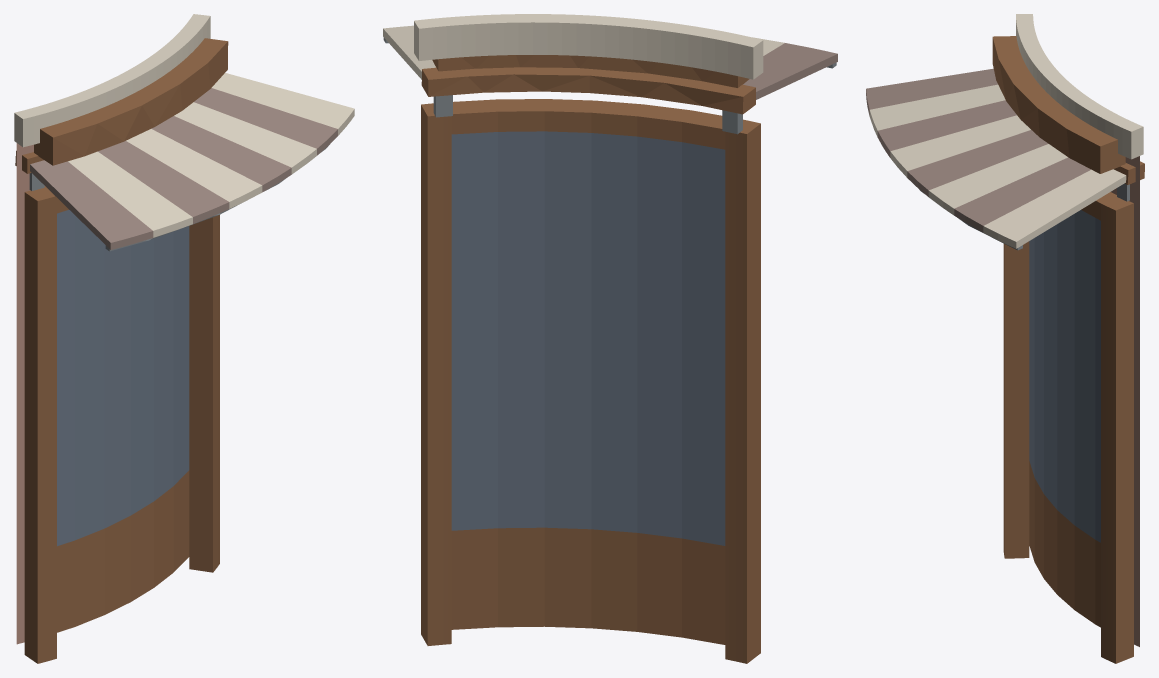
File: ArcShopfront_R2_A45.glb
3 views of the same model, side by side, from view 1: azimuth 30°, elevation 25°; view 2: azimuth 150°, elevation 25°; view 3: azimuth 270°, elevation 25° (orthographic). The views are drawn at different scales.
Visible parts, largest first — view 1: PBK_Arc_PBK_glass.002, PBK_Continuous_Frame_Brick_Shopfront.003, PBK_Arc_PBK_glass.011_Frame_Base20.001, PBK_Arc_PBK_signboard.006, PBK_floor_band.048, PBK_Brick_ArcShopfront_R2_A45_Exterior_Surface.001, PBK_Arc_PBK_awning_stripe.006, PBK_Arc_PBK_awning_stripe.007, PBK_Arc_PBK_awning_stripe.011, PBK_Arc_PBK_awning_stripe.012, PBK_Arc_PBK_awning_stripe.013, PBK_Arc_PBK_awning_stripe.014 (+2 smaller); view 2: PBK_Arc_PBK_glass.002, PBK_Continuous_Frame_Brick_Shopfront.003, PBK_Arc_PBK_glass.011_Frame_Base20.001, PBK_floor_band.048, PBK_Arc_PBK_awning_wall_mount.001, PBK_Arc_PBK_signboard.006, PBK_Arc_PBK_awning_stripe.006, PBK_Arc_PBK_awning_stripe.022; view 3: PBK_Continuous_Frame_Brick_Shopfront.003, PBK_Arc_PBK_glass.002, PBK_Arc_PBK_signboard.006, PBK_Arc_PBK_glass.011_Frame_Base20.001, PBK_floor_band.048, PBK_Arc_PBK_awning_stripe.022, PBK_Arc_PBK_awning_stripe.015, PBK_Arc_PBK_awning_stripe.014, PBK_Arc_PBK_awning_stripe.013, PBK_Brick_ArcShopfront_R2_A45_Exterior_Surface.001, PBK_Arc_PBK_awning_stripe.012, PBK_Arc_PBK_awning_stripe.011 (+2 smaller).
Boxes of the visible parts, x1=… form: PBK_Arc_PBK_glass.002: x1=57, y1=210, x2=189, y2=546; PBK_Continuous_Frame_Brick_Shopfront.003: x1=24, y1=186, x2=219, y2=663; PBK_Arc_PBK_glass.011_Frame_Base20.001: x1=57, y1=470, x2=189, y2=632; PBK_Arc_PBK_signboard.006: x1=34, y1=38, x2=228, y2=165; PBK_floor_band.048: x1=14, y1=14, x2=210, y2=147; PBK_Brick_ArcShopfront_R2_A45_Exterior_Surface.001: x1=16, y1=143, x2=33, y2=644; PBK_Arc_PBK_awning_stripe.006: x1=30, y1=160, x2=153, y2=249; PBK_Arc_PBK_awning_stripe.007: x1=68, y1=151, x2=192, y2=237; PBK_Arc_PBK_awning_stripe.011: x1=98, y1=141, x2=229, y2=223; PBK_Arc_PBK_awning_stripe.012: x1=126, y1=129, x2=262, y2=208; PBK_Arc_PBK_awning_stripe.013: x1=151, y1=116, x2=291, y2=192; PBK_Arc_PBK_awning_stripe.014: x1=174, y1=102, x2=316, y2=174; PBK_Arc_PBK_glass.002: x1=451, y1=131, x2=725, y2=545; PBK_Continuous_Frame_Brick_Shopfront.003: x1=421, y1=99, x2=760, y2=663; PBK_Arc_PBK_glass.011_Frame_Base20.001: x1=451, y1=527, x2=725, y2=644; PBK_floor_band.048: x1=414, y1=14, x2=763, y2=79; PBK_Arc_PBK_awning_wall_mount.001: x1=421, y1=67, x2=755, y2=114; PBK_Arc_PBK_signboard.006: x1=432, y1=55, x2=749, y2=87; PBK_Arc_PBK_awning_stripe.006: x1=743, y1=43, x2=837, y2=99; PBK_Arc_PBK_awning_stripe.022: x1=383, y1=25, x2=435, y2=79; PBK_Continuous_Frame_Brick_Shopfront.003: x1=1003, y1=192, x2=1133, y2=663; PBK_Arc_PBK_glass.002: x1=1029, y1=210, x2=1100, y2=542; PBK_Arc_PBK_signboard.006: x1=992, y1=36, x2=1125, y2=173; PBK_Arc_PBK_glass.011_Frame_Base20.001: x1=1029, y1=461, x2=1100, y2=627; PBK_floor_band.048: x1=1016, y1=14, x2=1143, y2=159; PBK_Arc_PBK_awning_stripe.022: x1=983, y1=169, x2=1126, y2=248; PBK_Arc_PBK_awning_stripe.015: x1=954, y1=157, x2=1090, y2=232; PBK_Arc_PBK_awning_stripe.014: x1=928, y1=144, x2=1067, y2=215; PBK_Arc_PBK_awning_stripe.013: x1=907, y1=130, x2=1048, y2=196; PBK_Brick_ArcShopfront_R2_A45_Exterior_Surface.001: x1=1111, y1=156, x2=1139, y2=646; PBK_Arc_PBK_awning_stripe.012: x1=890, y1=115, x2=1030, y2=177; PBK_Arc_PBK_awning_stripe.011: x1=877, y1=100, x2=1016, y2=157.
Size of the model in its own units: 1.97 by 3.07 by 1.46.
